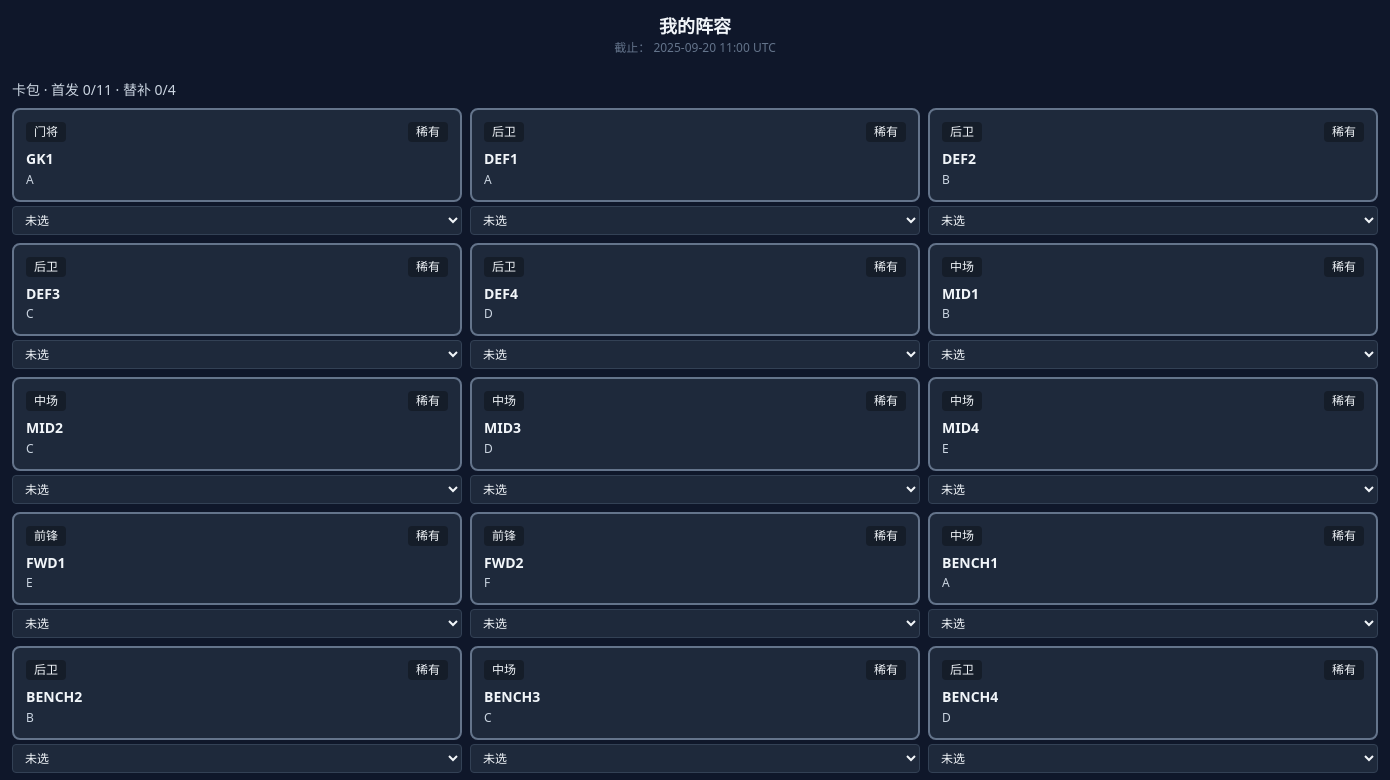
Test: LineupBuilder › adds a footballer to the starters from the pool
Expected: the heading "卡包 · 首发 0/11 · 替补 0/4" is shown, [12, 80, 176, 99]
Select "首发" in the dropdown named "安排 GK1": (237,220) [12, 206, 462, 234]
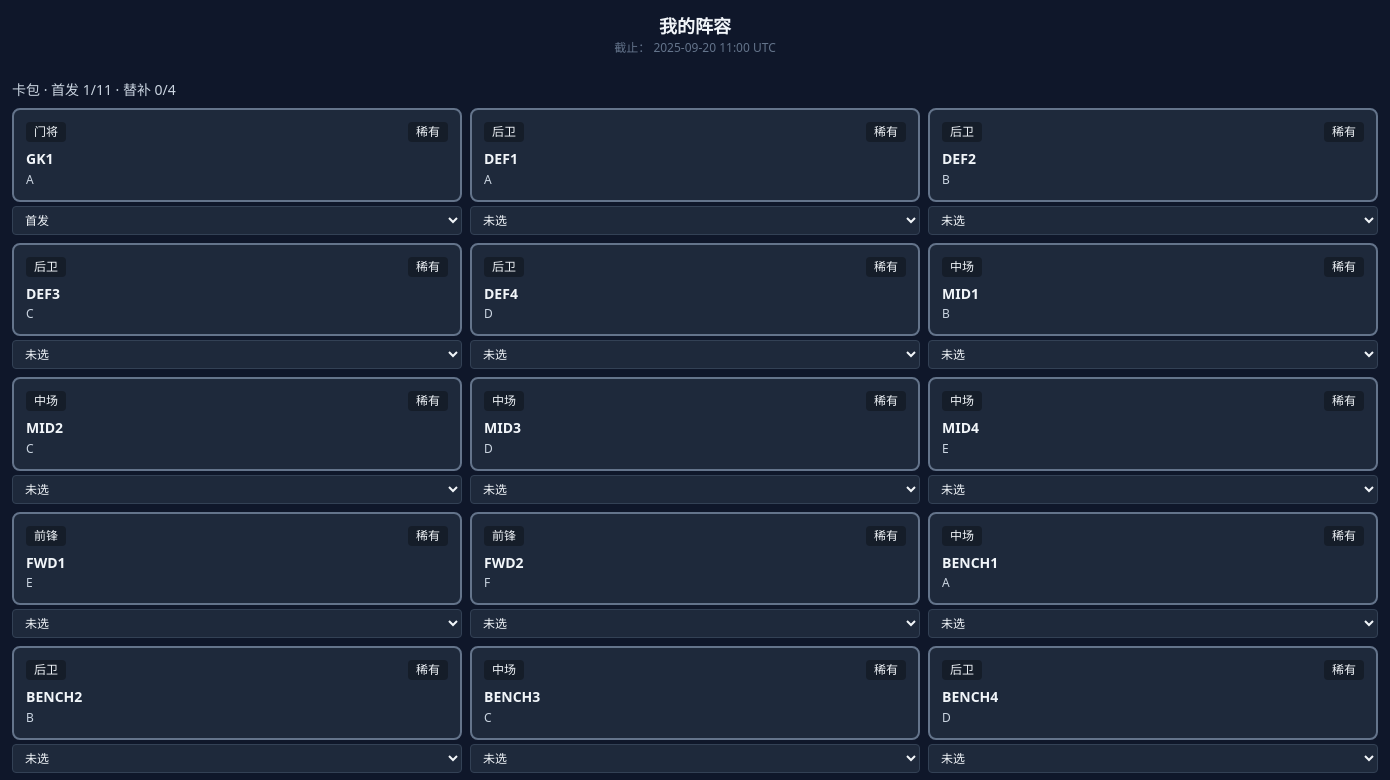
Expected: the heading "卡包 · 首发 1/11 · 替补 0/4" is shown, [12, 80, 176, 99]
